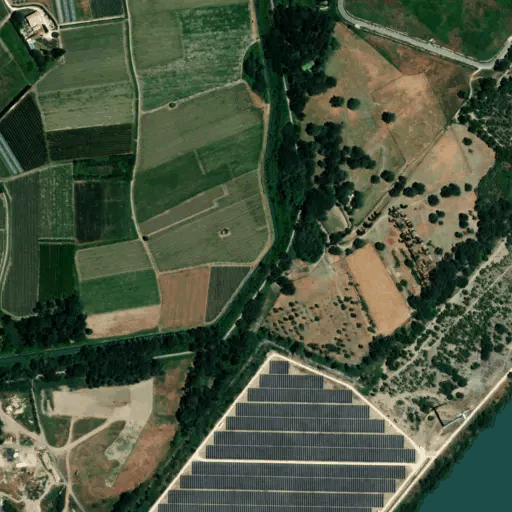wt: (421, 391, 480, 448)
